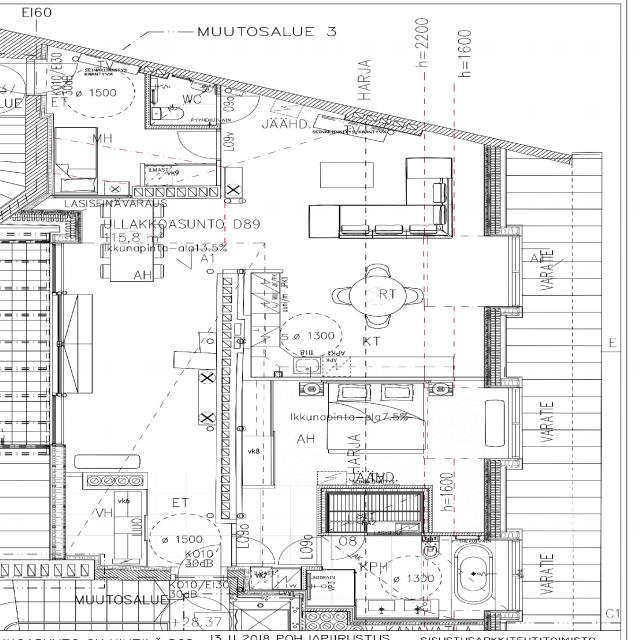door: (178, 575, 221, 611), (178, 544, 221, 580), (27, 63, 77, 93), (177, 131, 221, 159), (278, 537, 322, 565), (231, 536, 274, 564), (216, 96, 259, 123), (0, 63, 34, 93), (331, 533, 364, 559)
